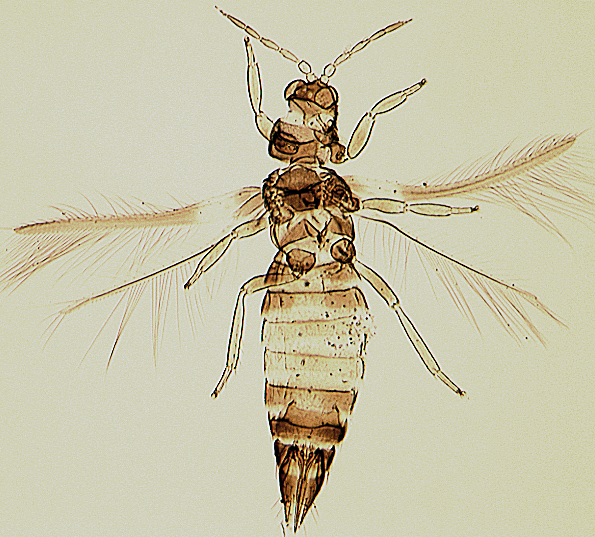Thripidae: (5, 8, 595, 532)
